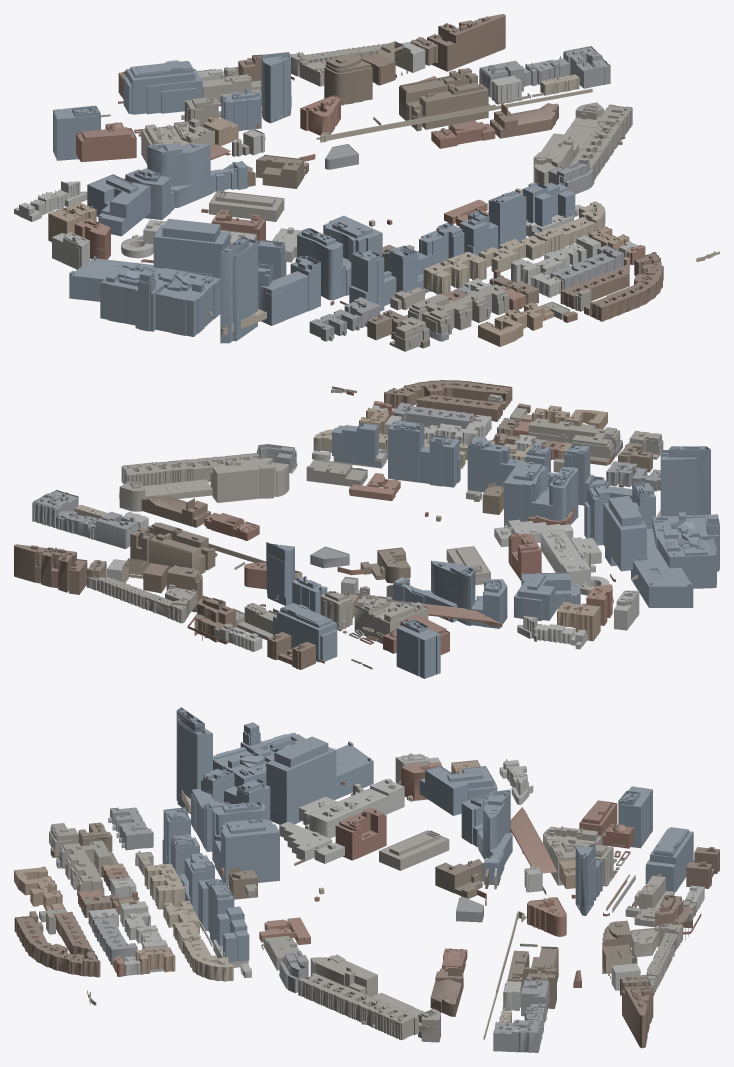
Rendered from fenway-neighborhood.glb.
3 views of the same model, one above another, from view 1: azimuth 30°, elevation 25°; view 2: azimuth 150°, elevation 25°; view 3: azimuth 270°, elevation 25° (orthographic). The views are drawn at different scales.
Parts seen in each view (by area): view 1: hood-walls, hood-roofs; view 2: hood-walls, hood-roofs; view 3: hood-walls, hood-roofs.
Part boxes in pixels (box(x1,y1,x2,y2)): hood-walls: box(14, 15, 719, 351); hood-roofs: box(14, 14, 719, 344); hood-walls: box(14, 380, 719, 678); hood-roofs: box(14, 380, 719, 667); hood-walls: box(14, 707, 719, 1052); hood-roofs: box(14, 707, 719, 1036).
Size of the model in its own units: 923 by 133 by 922.
